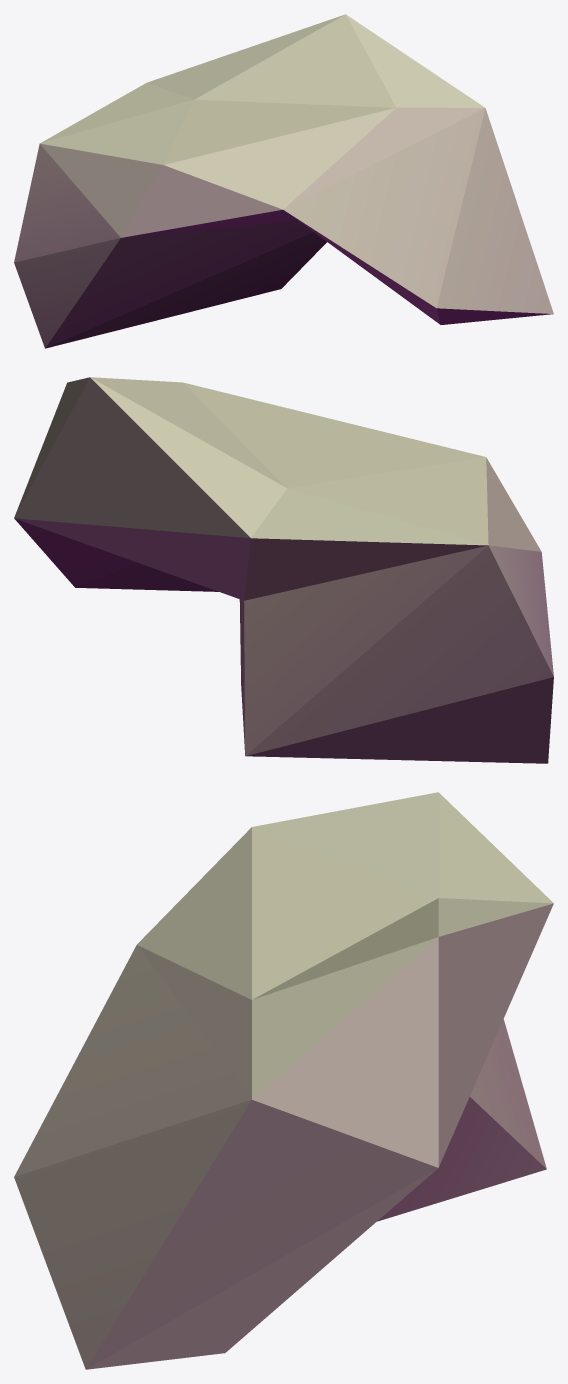
File: tan_duck_superfurniture.FBX
3 renders of one model, top to bottom at view 1: azimuth 30°, elevation 25°; view 2: azimuth 150°, elevation 25°; view 3: azimuth 270°, elevation 25°, orthographic. The views are drawn at different scales.
Parts seen in each view (by area): view 1: tan duck superfurniture; view 2: tan duck superfurniture; view 3: tan duck superfurniture.
Boxes of the visible parts, x1=… form: tan duck superfurniture: x1=14, y1=14, x2=553, y2=348; tan duck superfurniture: x1=14, y1=377, x2=553, y2=763; tan duck superfurniture: x1=14, y1=792, x2=553, y2=1369.
Size of the model in its own units: 4.49 by 2.34 by 3.14.
